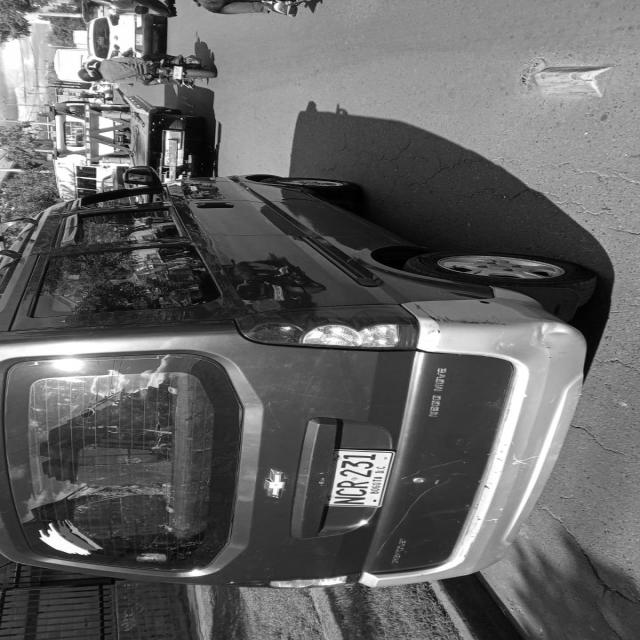plate: (320, 446, 403, 516)
